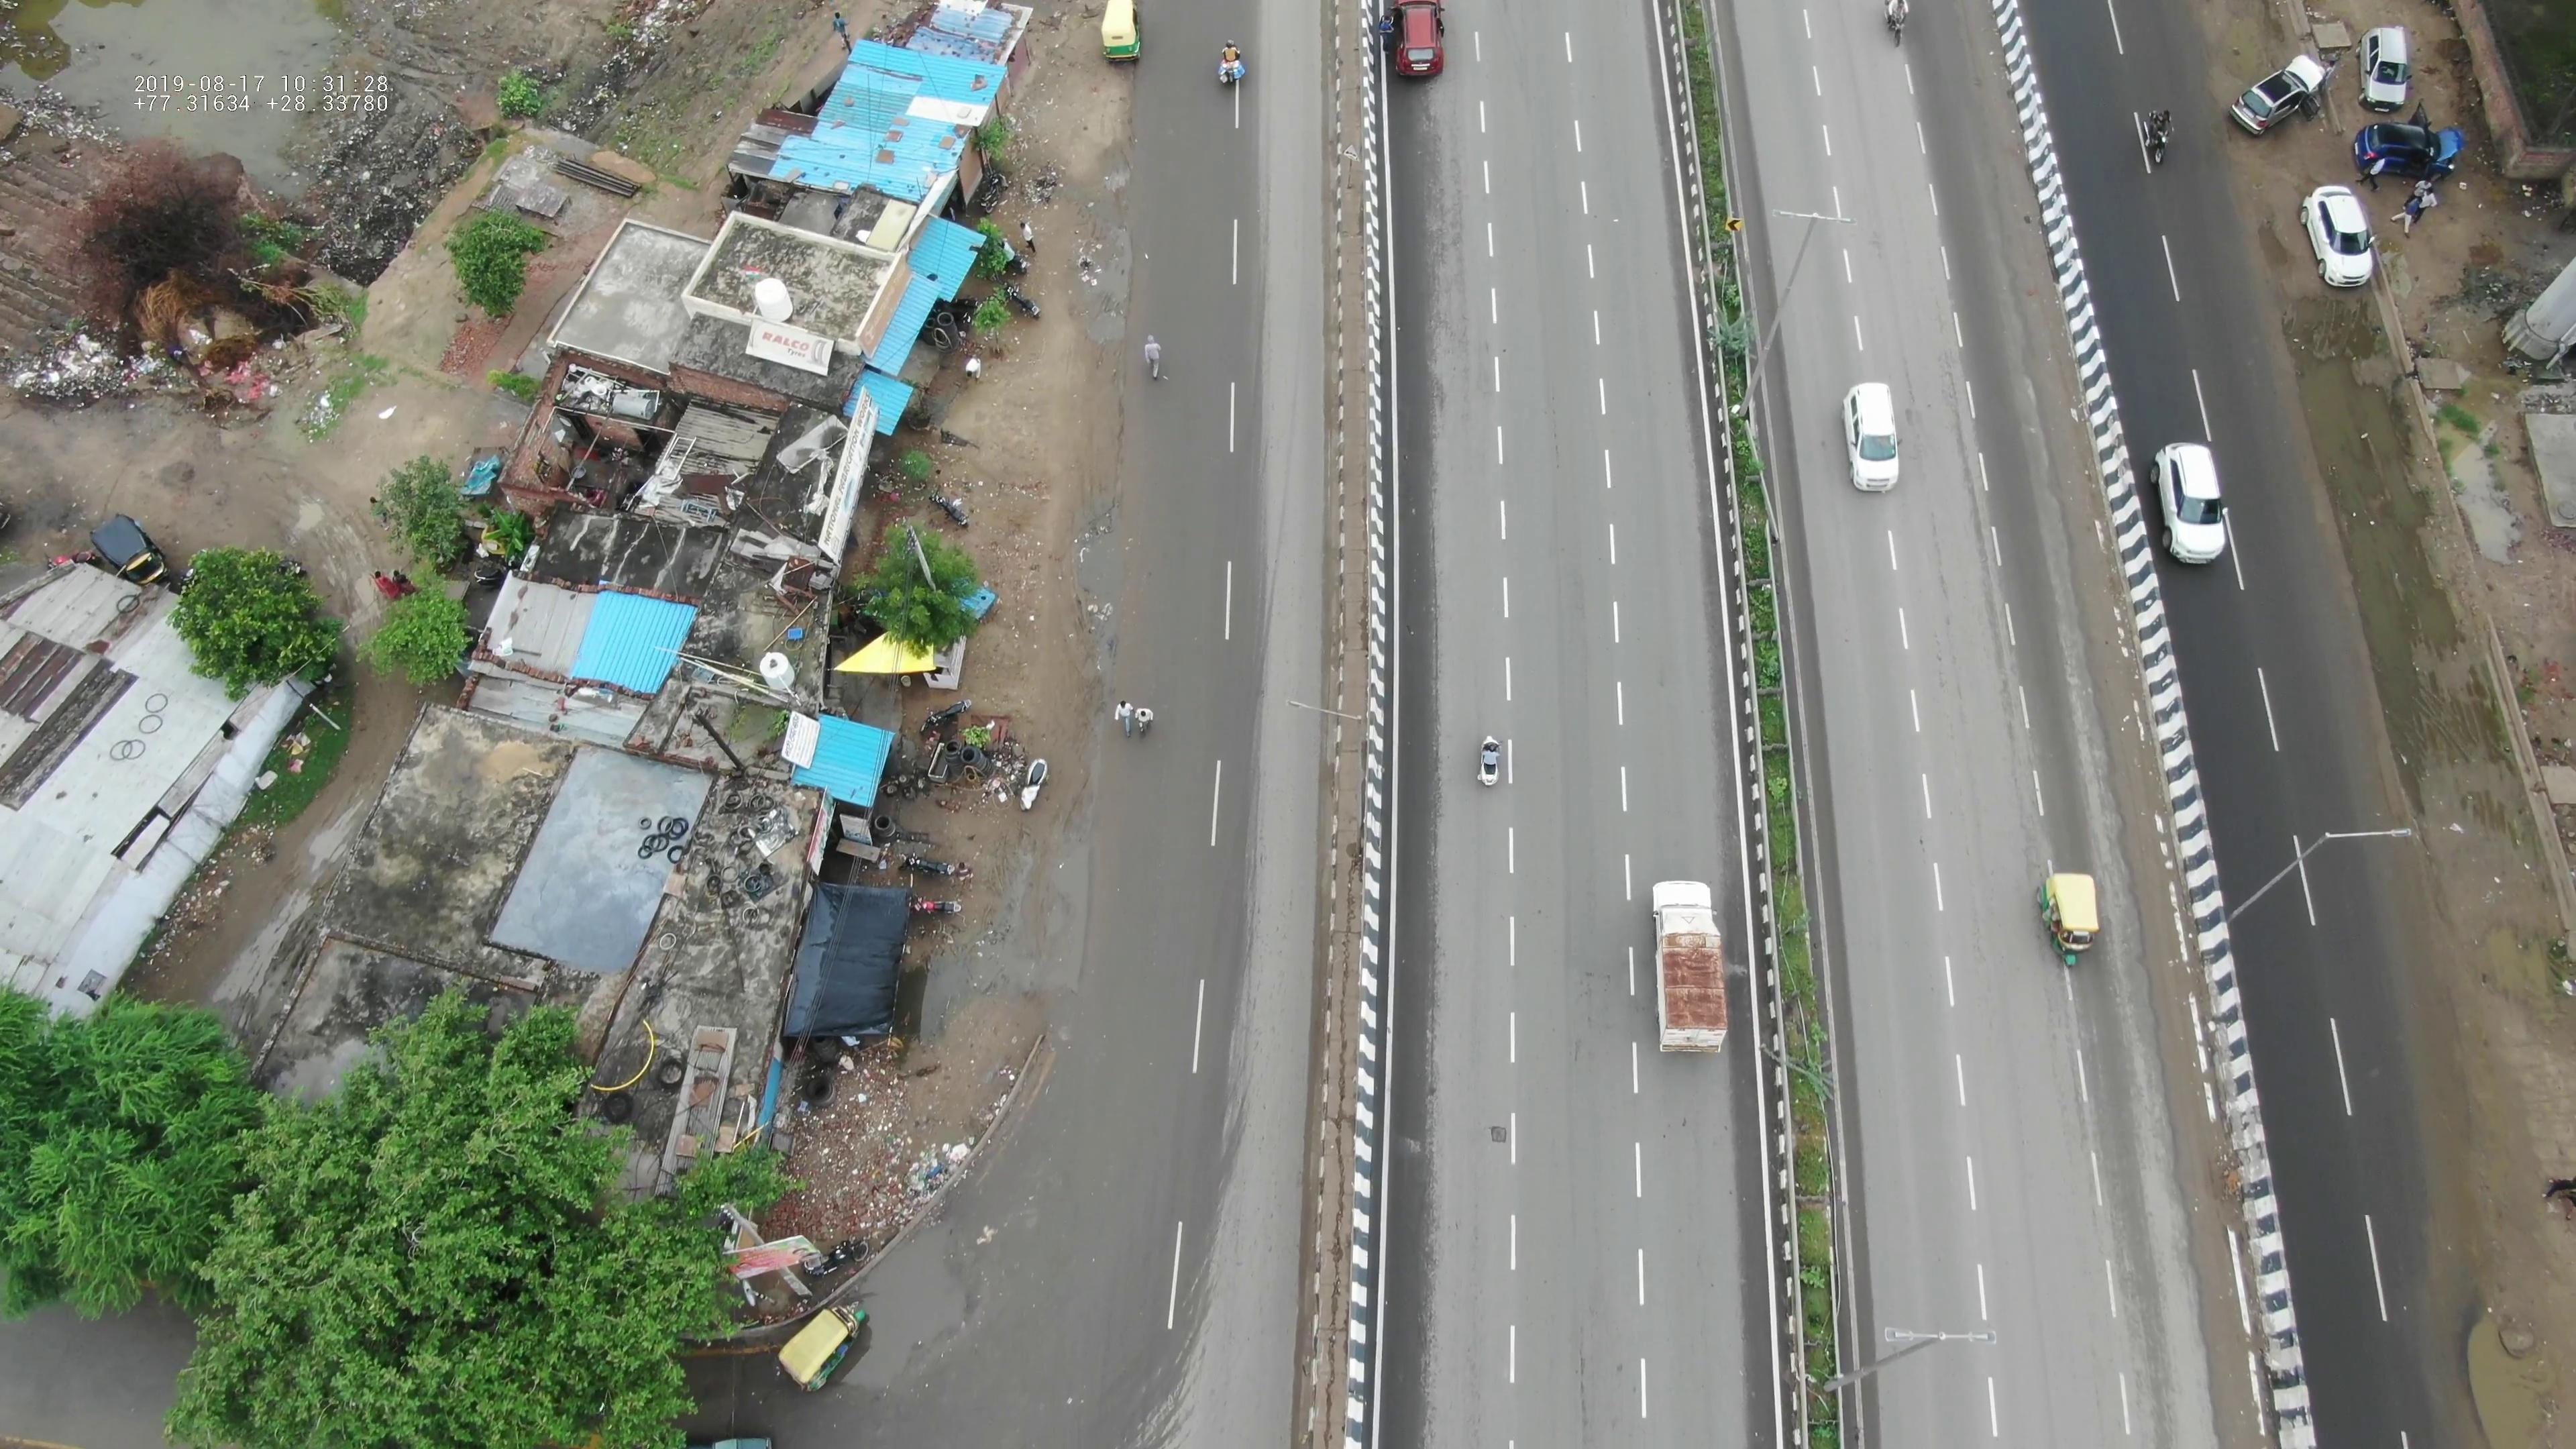Waterlogging: (2289, 334, 2463, 775), (1000, 782, 1108, 1023), (2450, 1274, 2553, 1449)
